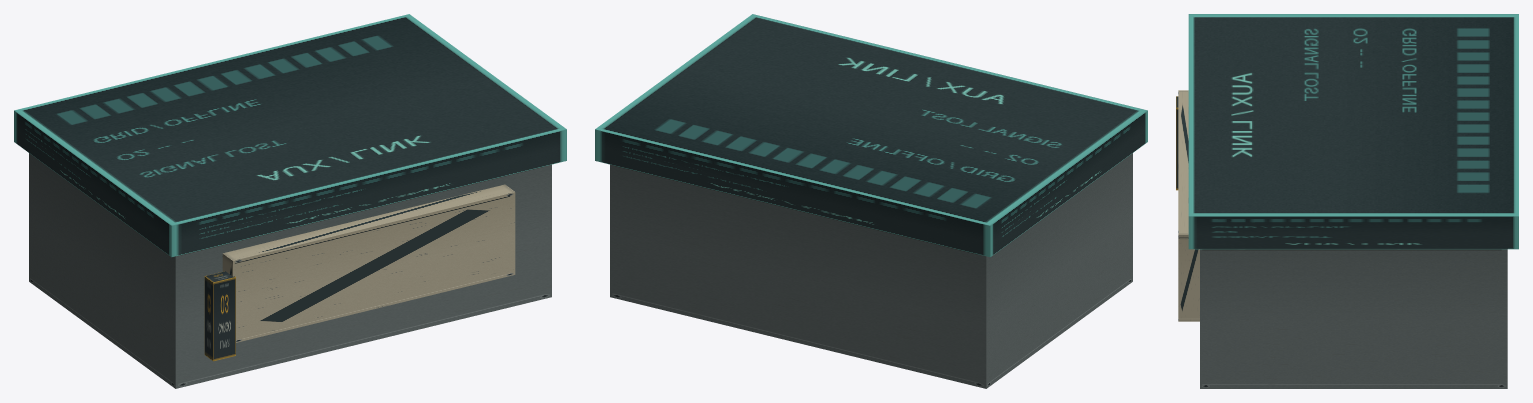
File: hvac_unit_LOD2.obj
3 renders of one model, left to right at view 1: azimuth 30°, elevation 25°; view 2: azimuth 150°, elevation 25°; view 3: azimuth 270°, elevation 25°, orthographic. The views are drawn at different scales.
Visible parts, largest first — view 1: L02_hvac_unit_LOD2; view 2: L02_hvac_unit_LOD2; view 3: L02_hvac_unit_LOD2.
Boxes of the visible parts, x1,y1,x2,y2 form: L02_hvac_unit_LOD2: (14, 14, 566, 388); L02_hvac_unit_LOD2: (595, 14, 1147, 388); L02_hvac_unit_LOD2: (1176, 14, 1518, 388).
Size of the model in its own units: 2.1 by 0.86 by 1.5.
1 material, 1 textured.
